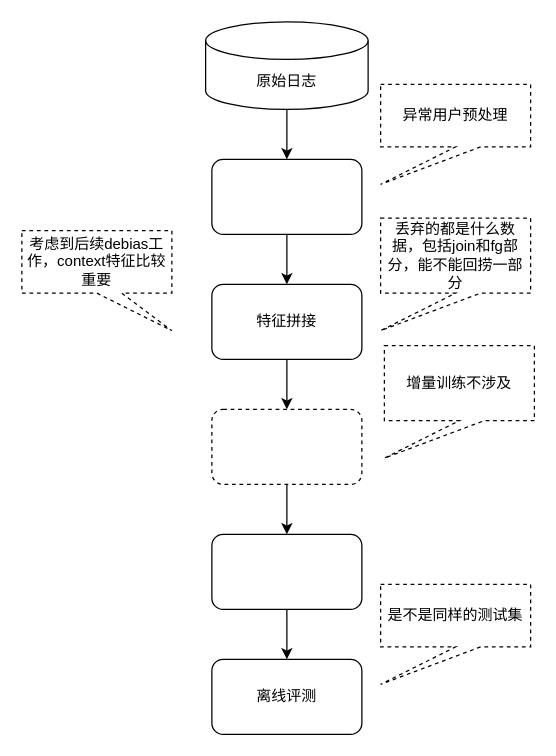
Some shapes in this 556 by 756 pixel diagram are drawn without their labels. Here are the shapes that lost their labels. From the top down, the centre of each, then its label:
point (286, 196): 异常检测模块
point (286, 446): 样本聚合
point (286, 571): 模型训练
